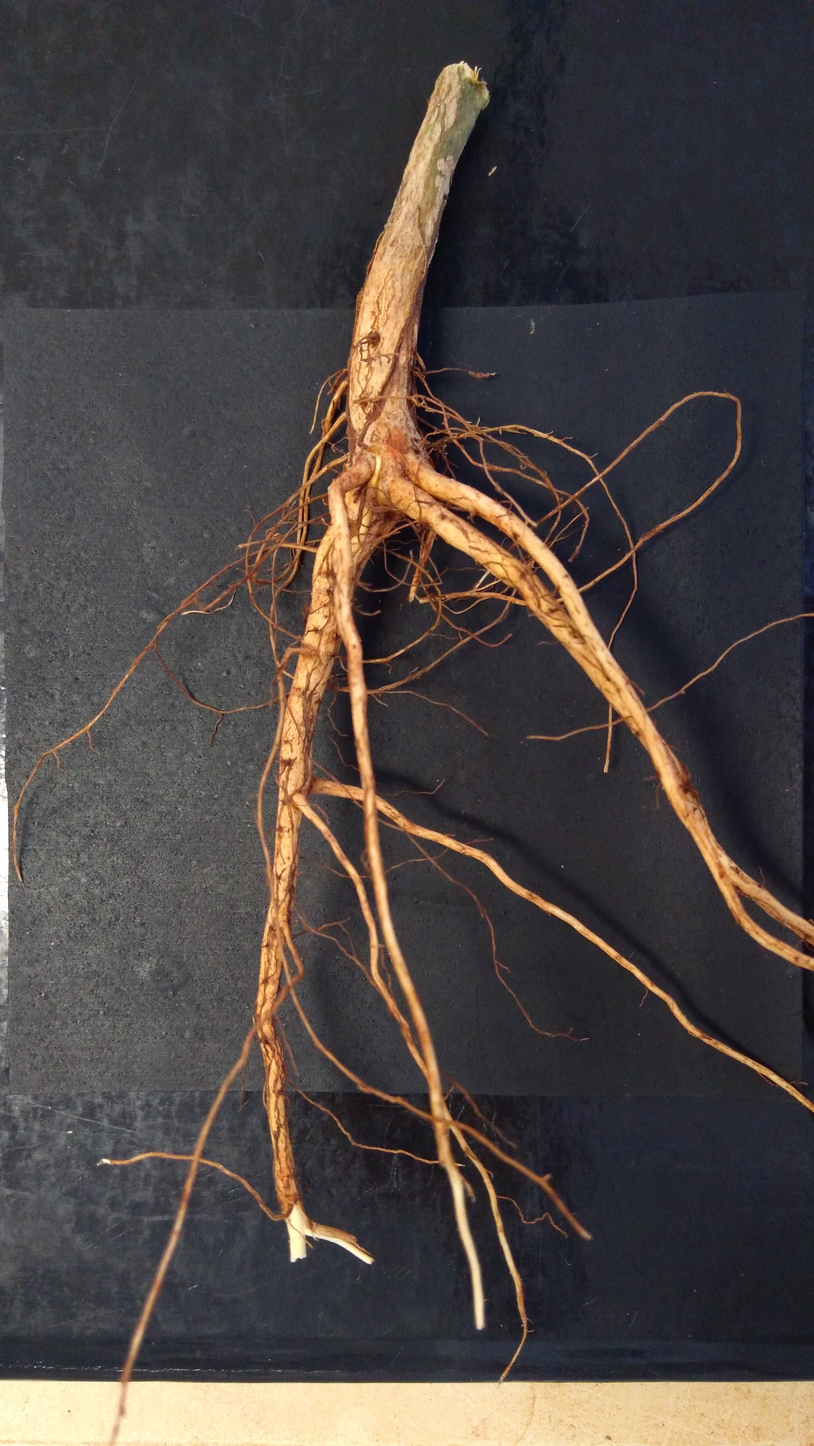nodule: (271, 533, 282, 542), (416, 522, 427, 531), (321, 494, 329, 506), (265, 528, 273, 539)
